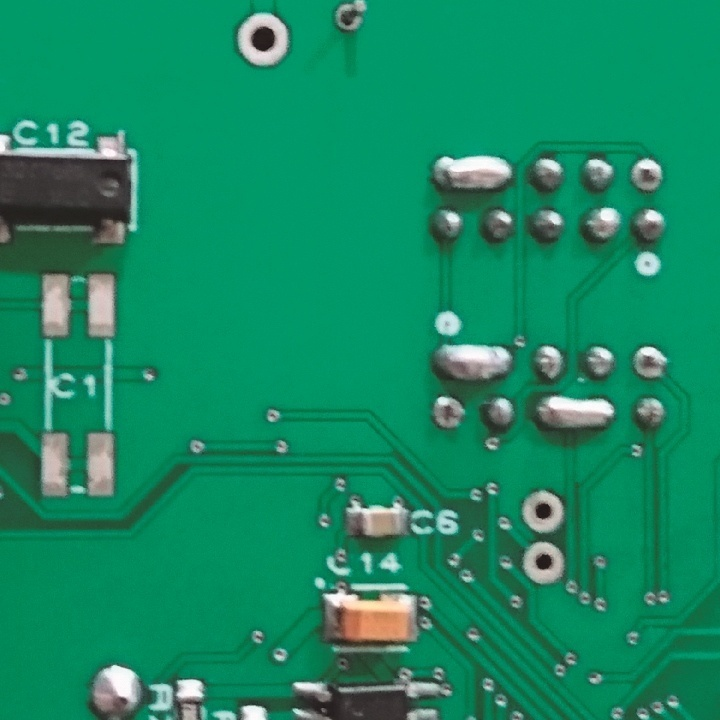F: (236, 9, 296, 72), (519, 537, 567, 592), (520, 486, 570, 537), (630, 342, 672, 384), (331, 1, 373, 41), (430, 391, 469, 433), (627, 155, 668, 193)
P: (427, 149, 515, 194), (431, 338, 517, 383), (534, 391, 618, 436)
